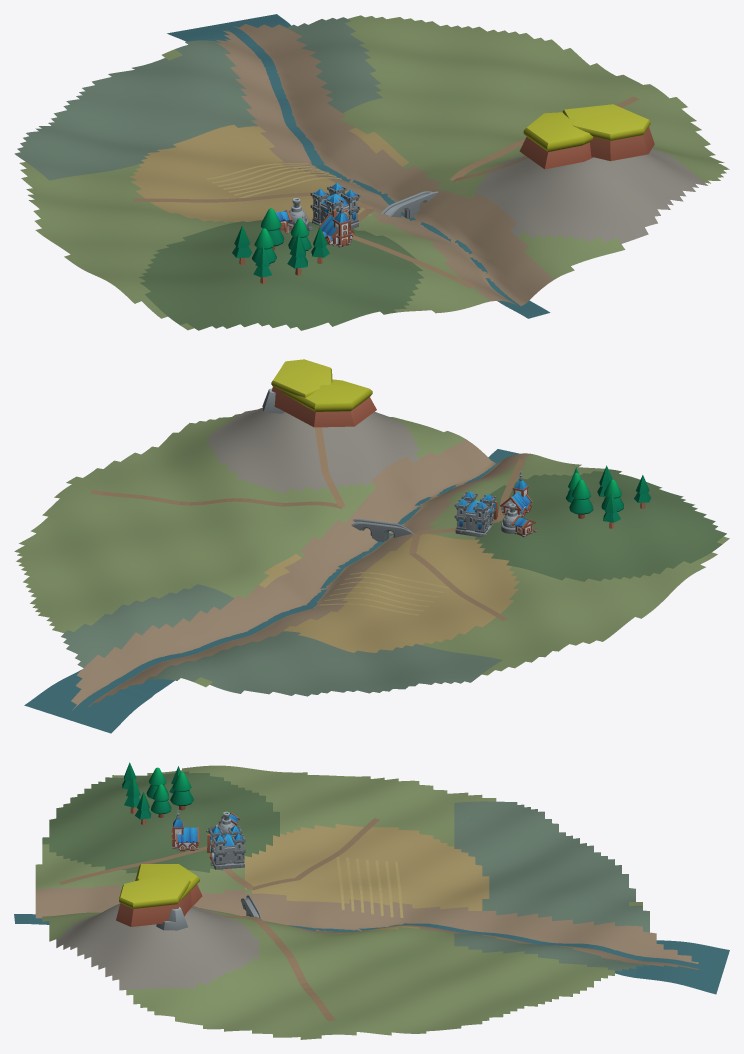
Rendered from aurelian_authored_terrain_v1.glb.
The picture shows the model from 3 angles, top to bottom: view 1: azimuth 30°, elevation 25°; view 2: azimuth 150°, elevation 25°; view 3: azimuth 270°, elevation 25°; orthographic projection. The views are drawn at different scales.
Parts seen in each view (by area): view 1: AurelianAuthoredTerrain, RiverWater, hill_single_B, hill_single_A, building_barracks_blue, building_church_blue, OldRoad, building_bridge_A, NorthgateRoute, EastTradeRoute, building_blacksmith_blue, tree_single_B.002; view 2: AurelianAuthoredTerrain, RiverWater, hill_single_A, hill_single_B, building_barracks_blue, EastTradeRoute, building_bridge_A, OldRoad, building_blacksmith_blue, building_church_blue, NorthRidgeRoute, tree_single_B.002; view 3: AurelianAuthoredTerrain, RiverWater, hill_single_B, building_barracks_blue, hill_single_A, EastTradeRoute, building_church_blue, OldRoad, NorthgateRoute, tree_single_B.002, tree_single_B.001.
Part boxes in pixels (x1,y1,x2,y2): AurelianAuthoredTerrain: (14,15,729,330); RiverWater: (167,14,550,318); hill_single_B: (562,104,654,161); hill_single_A: (519,112,593,169); building_barracks_blue: (310,183,360,229); building_church_blue: (318,203,354,247); OldRoad: (133,192,373,208); building_bridge_A: (381,191,437,218); NorthgateRoute: (352,235,474,288); EastTradeRoute: (449,96,639,181); building_blacksmith_blue: (276,198,313,233); tree_single_B.002: (260,208,283,250); AurelianAuthoredTerrain: (14,408,729,710); RiverWater: (24,449,518,733); hill_single_A: (281,379,376,427); hill_single_B: (271,359,332,416); building_barracks_blue: (454,491,496,537); EastTradeRoute: (90,490,342,508); building_bridge_A: (351,519,413,541); OldRoad: (409,533,507,620); building_blacksmith_blue: (501,503,536,537); building_church_blue: (500,471,532,516); NorthRidgeRoute: (314,427,345,506); tree_single_B.002: (569,479,593,518); AurelianAuthoredTerrain: (35,765,703,1039); RiverWater: (14,914,729,994); hill_single_B: (116,876,191,926); building_barracks_blue: (209,825,245,869); hill_single_A: (135,864,202,910); EastTradeRoute: (249,916,335,1021); building_church_blue: (171,810,199,851); OldRoad: (252,818,380,890); NorthgateRoute: (59,845,210,884); tree_single_B.002: (170,772,193,810); tree_single_B.001: (151,784,171,817).
Size of the model in its own units: 16.38 by 3.71 by 18.46.
25 materials, 16 textured.
